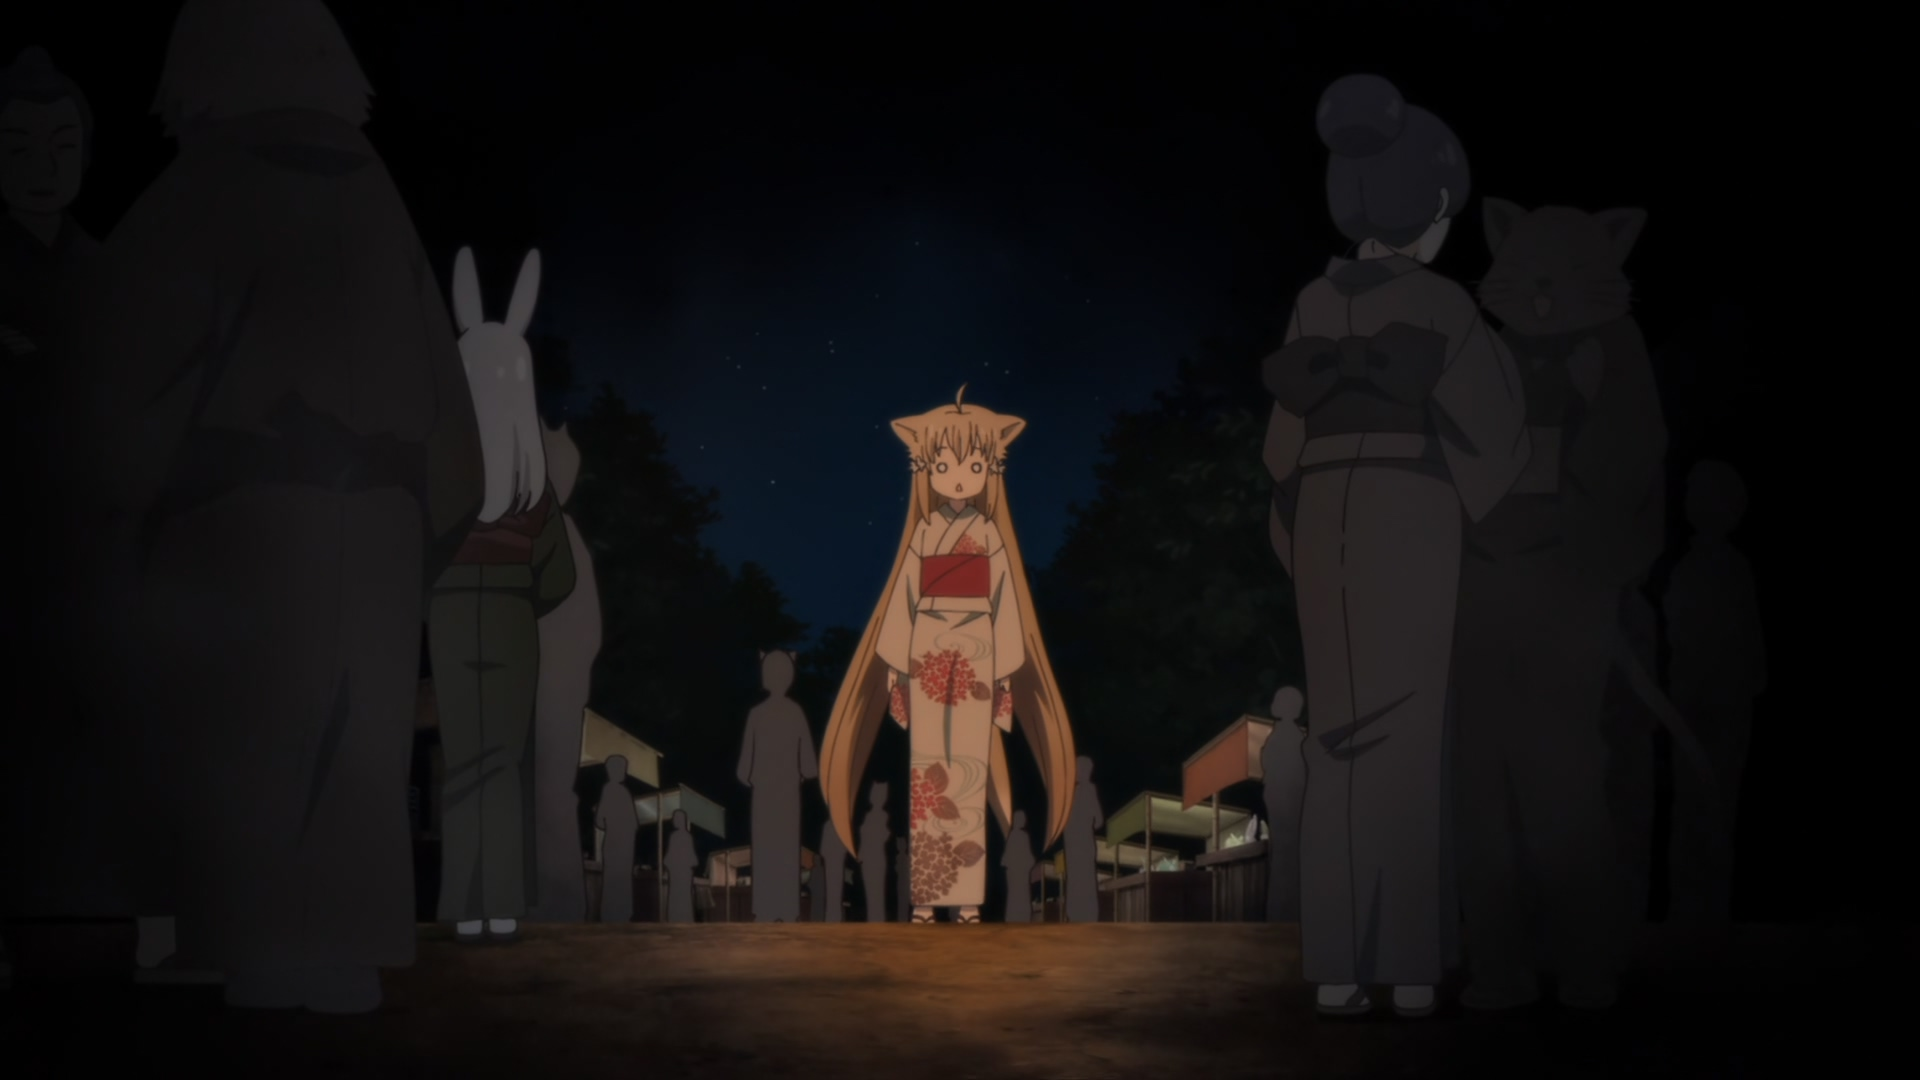其他: (1266, 73, 1524, 1011), (430, 248, 578, 940), (531, 425, 601, 924), (738, 651, 814, 920), (1261, 688, 1304, 919), (593, 756, 644, 923), (1060, 757, 1101, 920), (861, 781, 889, 923), (1005, 812, 1036, 924), (665, 808, 696, 920)
柚: (822, 380, 1073, 924)
